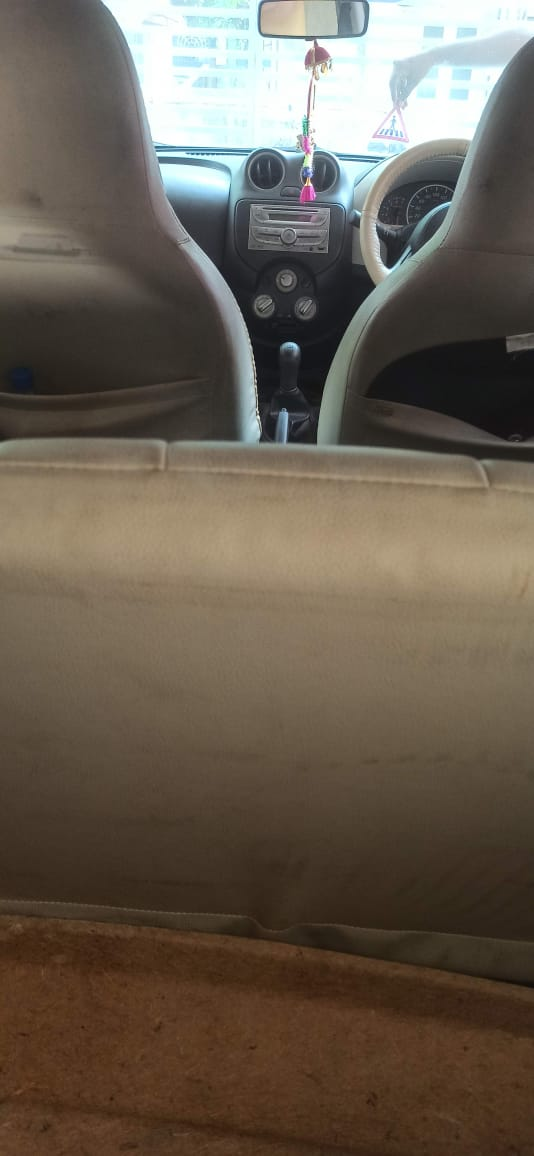PEDESTRIAN CROSSING: (361, 94, 420, 166)
